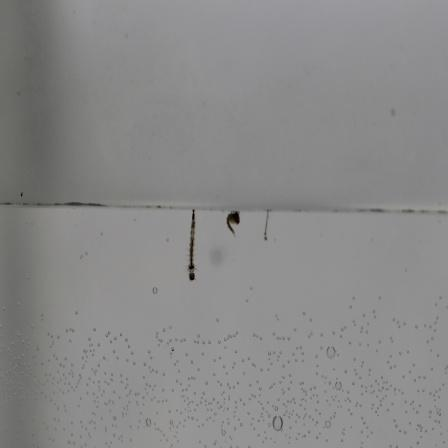Jentik-Nyamuk: (182, 204, 202, 285), (221, 208, 245, 241), (257, 208, 274, 248)
